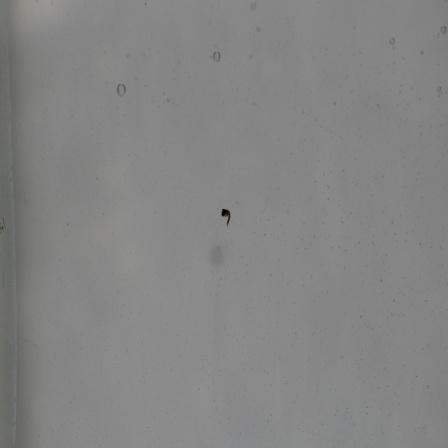Jentik-Nyamuk: (217, 207, 235, 230)
